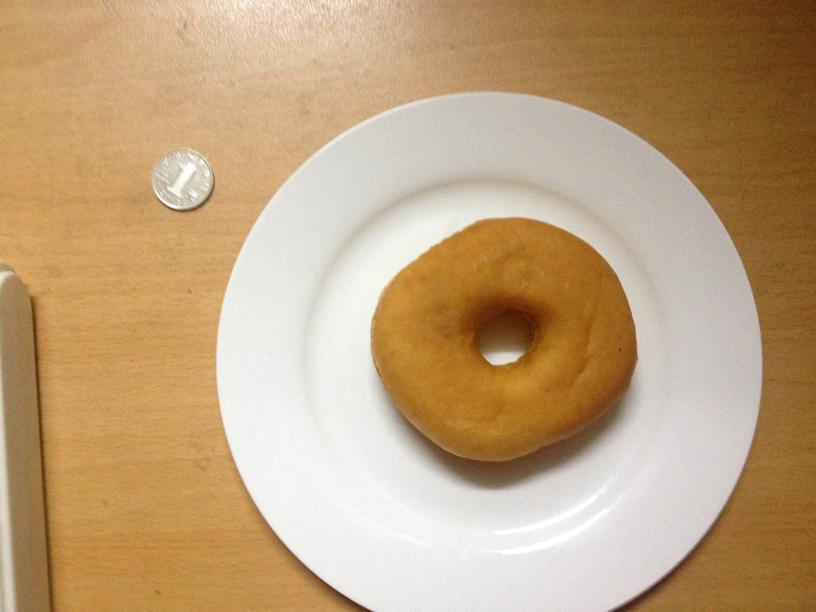coin: (150, 149, 213, 209)
doughnut: (374, 212, 636, 464)
